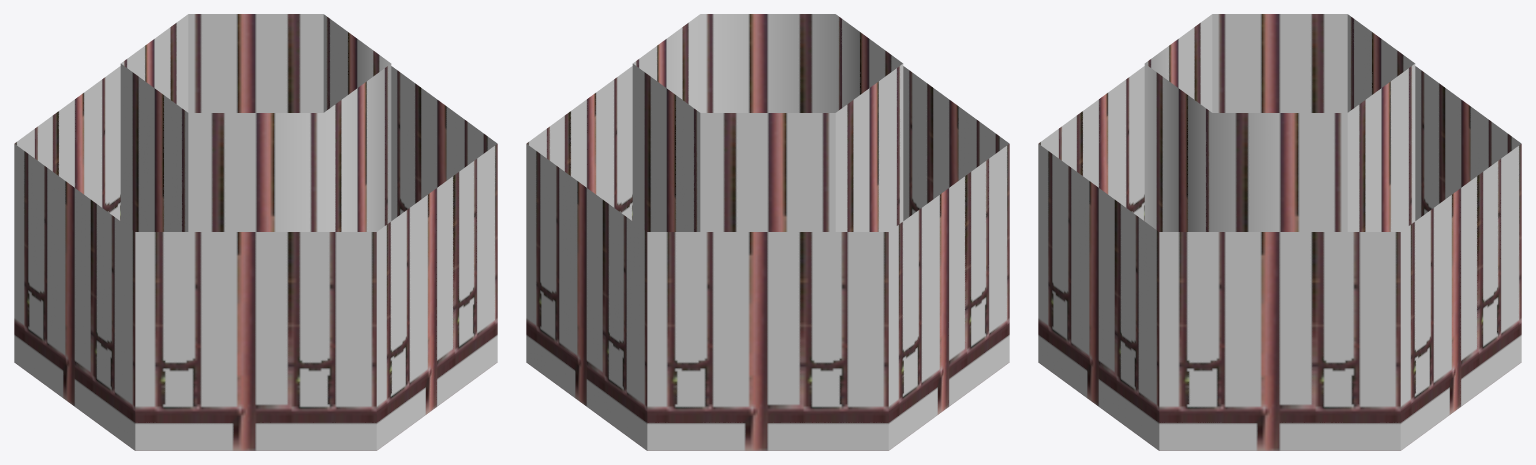
Rendered from shrub_3.dae.
3 views of the same model, side by side, from view 1: azimuth 30°, elevation 25°; view 2: azimuth 150°, elevation 25°; view 3: azimuth 270°, elevation 25° (orthographic).
Visible parts, largest first — view 1: SketchUp (×2); view 2: SketchUp (×2); view 3: SketchUp (×2).
Boxes of the visible parts, box(x1,y1,x2,y2) form: SketchUp (×2): box(14, 14, 497, 450); SketchUp (×2): box(526, 14, 1009, 450); SketchUp (×2): box(1038, 14, 1521, 450).
Size of the model in its own units: 27.96 by 32.28 by 22.05.
Materials: 1 (1 with a texture image).
